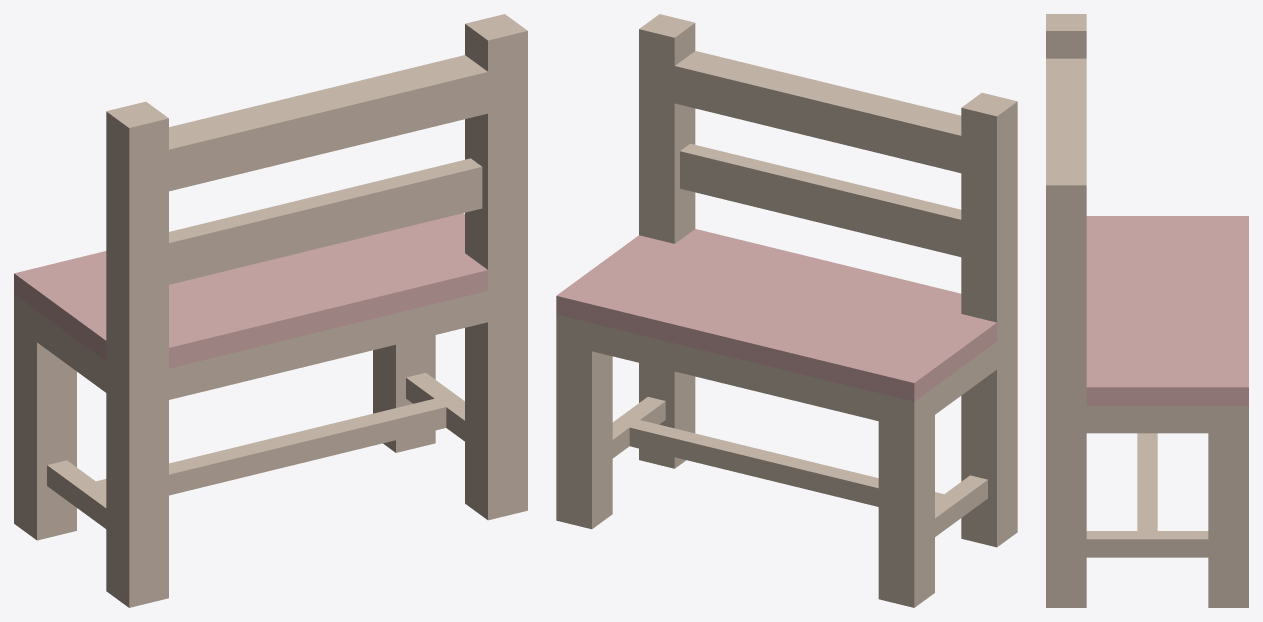
The model's file is furn_benchCushion.glb.
3 views of the same model, side by side, from view 1: azimuth 30°, elevation 25°; view 2: azimuth 150°, elevation 25°; view 3: azimuth 270°, elevation 25° (orthographic). The views are drawn at different scales.
Bounding box in the file's own units: 0.8 × 0.92 × 0.4.
